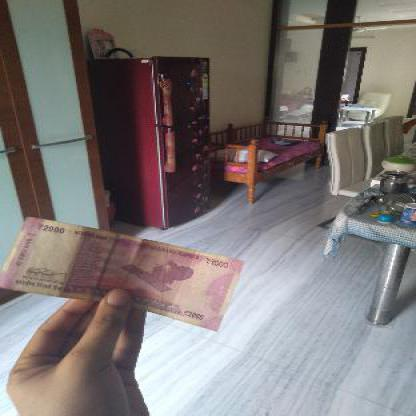New2000Back: (7, 216, 233, 326)
